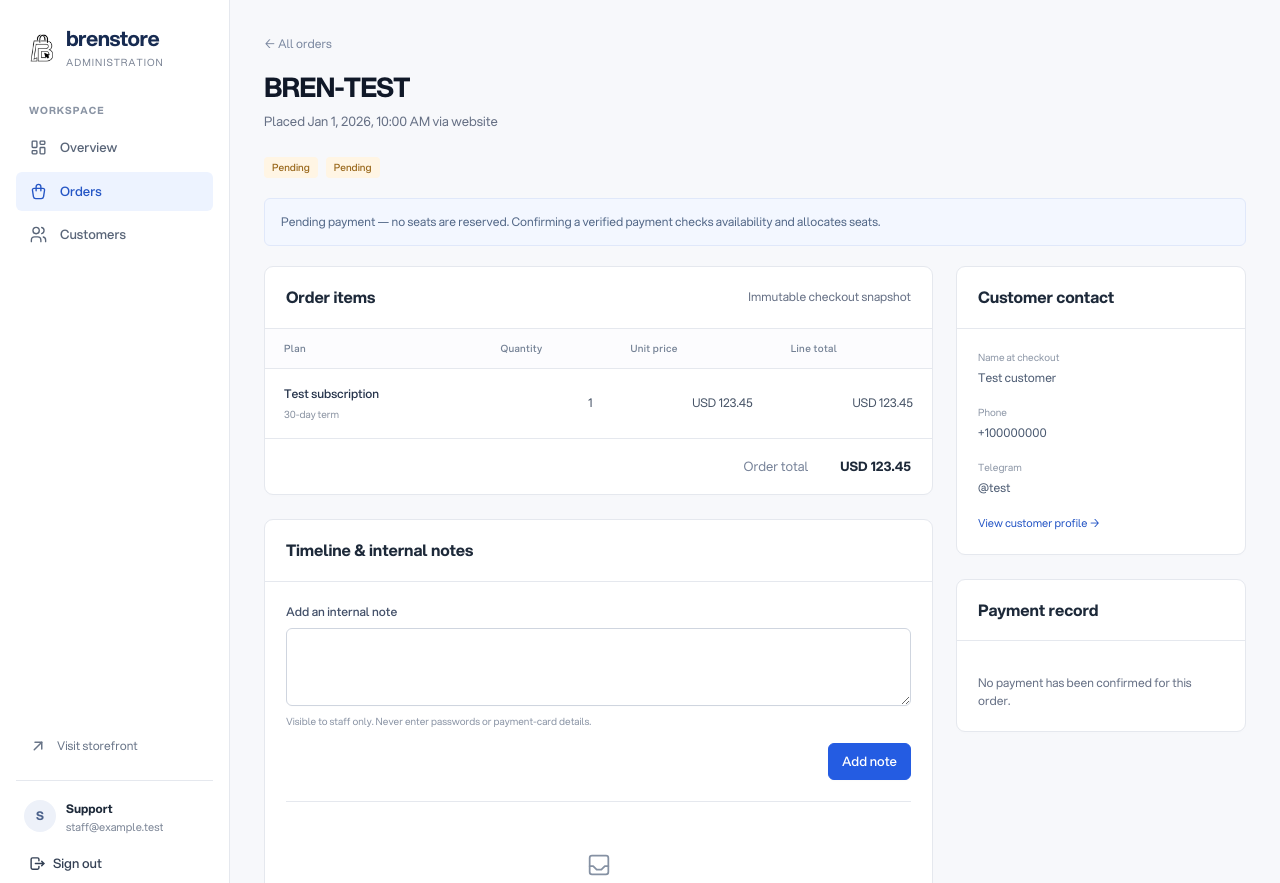
Test: order actions › allows support notes but not financial actions
(page scrolled)
Type "Customer contacted support." into the text box labelled "Add an internal note" at (598, 667), box x1=286 y1=628 x2=911 y2=706
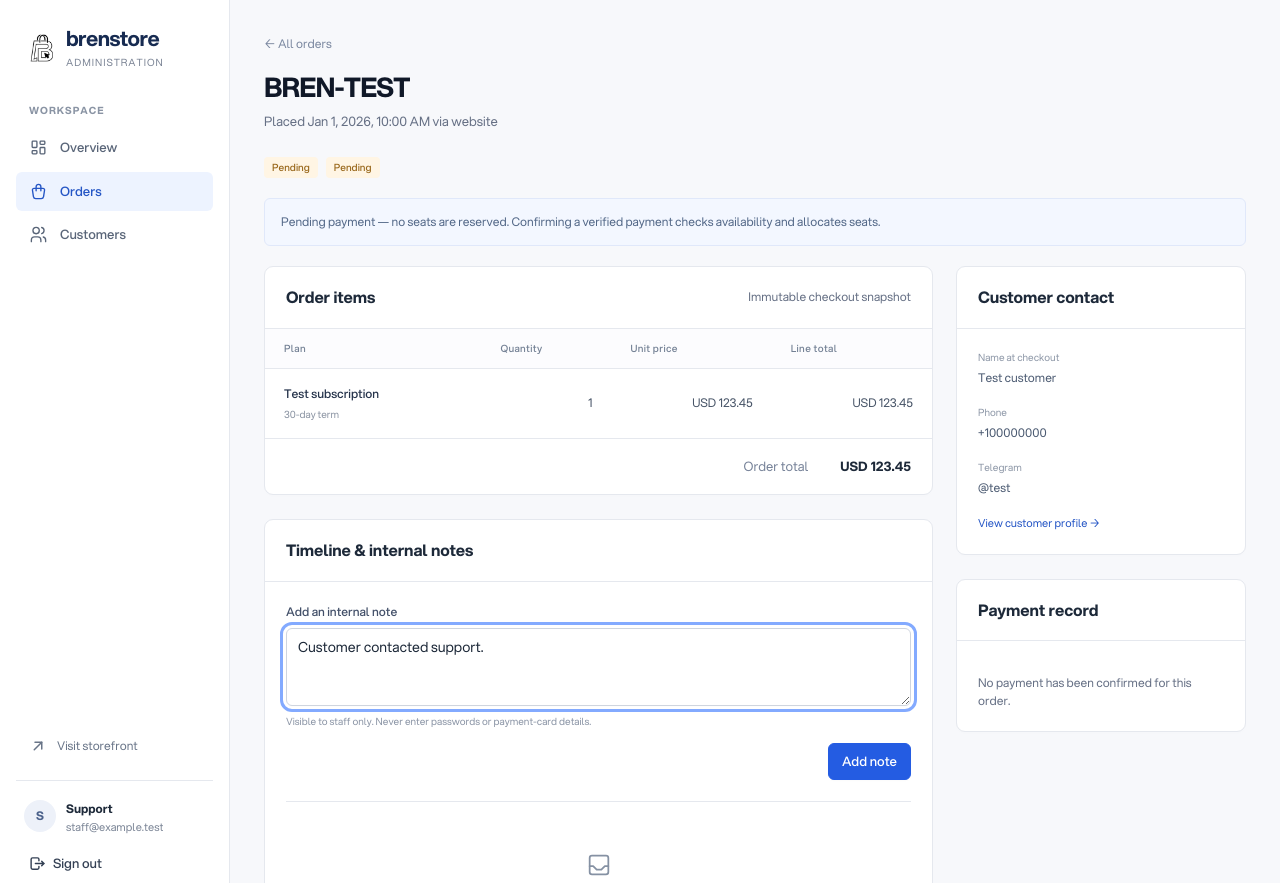
Click the button "Add note" at (869, 762), box x1=828 y1=743 x2=911 y2=780
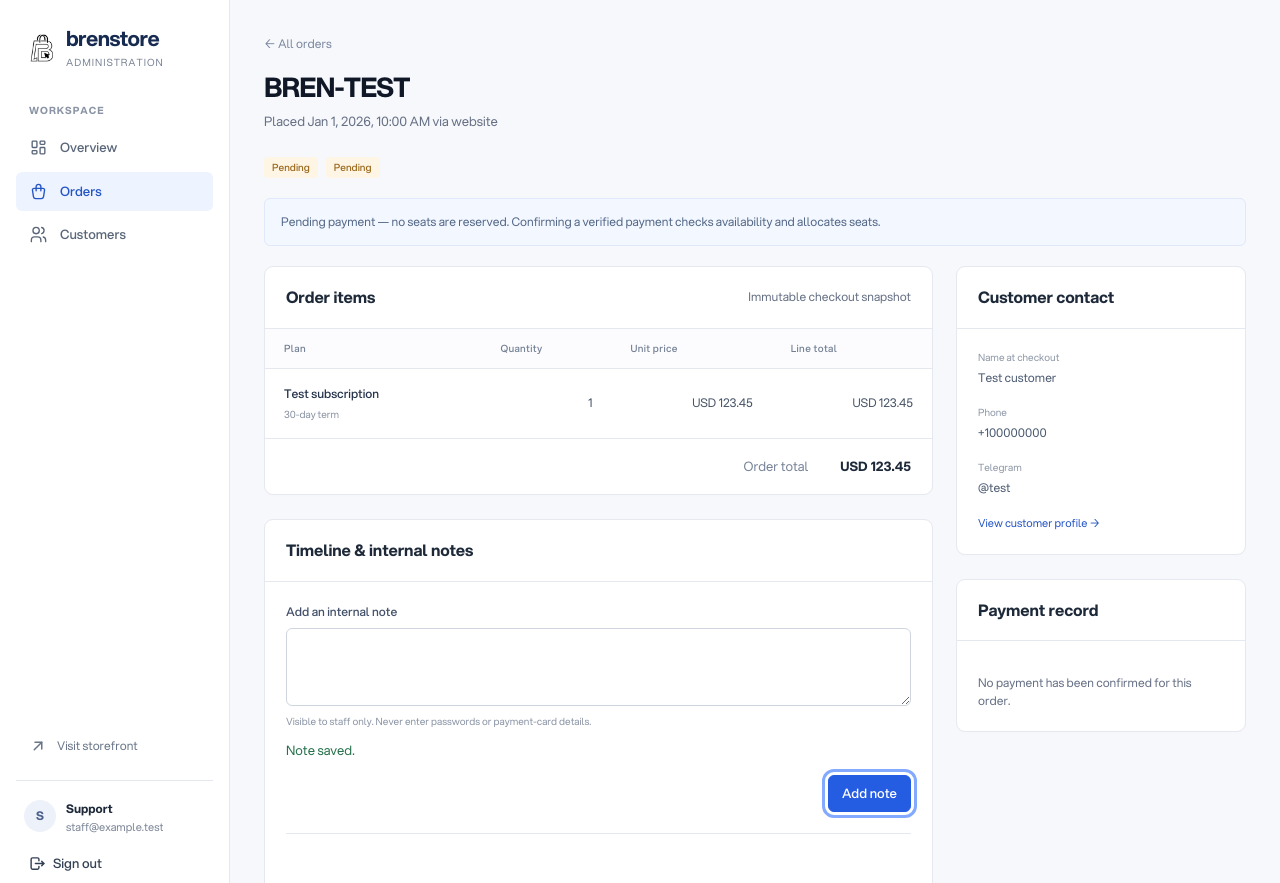
Check: the text "Note saved." is shown, box x1=286 y1=741 x2=355 y2=759
